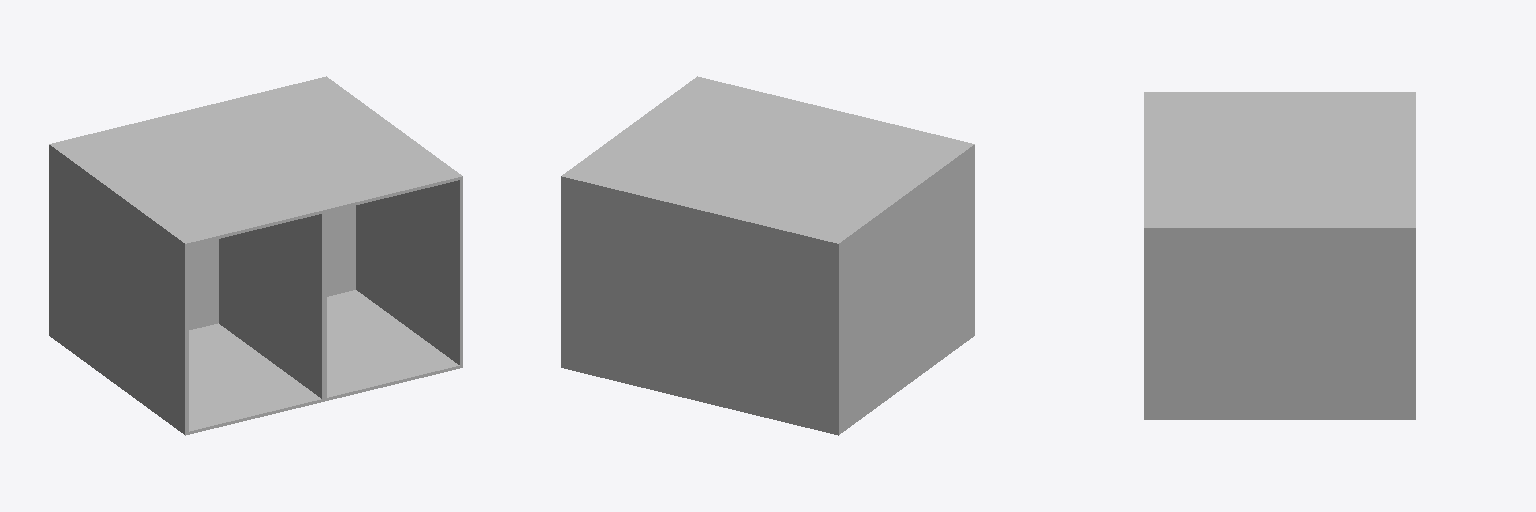
Rendered from house37.obj.
3 renders of one model, left to right at view 1: azimuth 30°, elevation 25°; view 2: azimuth 150°, elevation 25°; view 3: azimuth 270°, elevation 25°, orthographic.
Parts seen in each view (by area): view 1: 立方体.048; view 2: 立方体.048; view 3: 立方体.048.
Part boxes in pixels (x1,y1,x2,y2): 立方体.048: (49, 76, 462, 435); 立方体.048: (561, 76, 974, 435); 立方体.048: (1144, 92, 1415, 419).
Size of the model in its own units: 9.4 by 6.2 by 8.